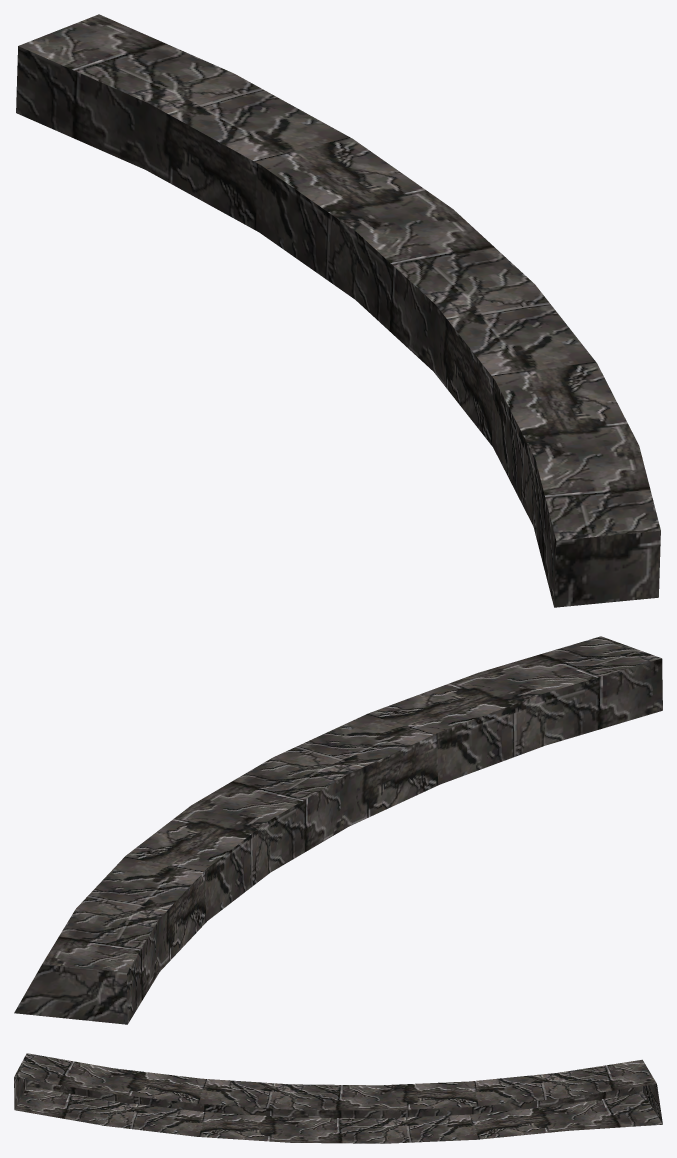
File: CH09_SMAUG_PLAYSURFACE_LAIR73.fbx
3 views of the same model, one above another, from view 1: azimuth 30°, elevation 25°; view 2: azimuth 150°, elevation 25°; view 3: azimuth 270°, elevation 25° (orthographic). The views are drawn at different scales.
Visible parts, largest first — view 1: CH09_SMAUG_PLAYSURFACE_LAIR73; view 2: CH09_SMAUG_PLAYSURFACE_LAIR73; view 3: CH09_SMAUG_PLAYSURFACE_LAIR73.
Boxes of the visible parts, bbox=[...] form: CH09_SMAUG_PLAYSURFACE_LAIR73: bbox=[16, 14, 660, 607]; CH09_SMAUG_PLAYSURFACE_LAIR73: bbox=[14, 636, 662, 1024]; CH09_SMAUG_PLAYSURFACE_LAIR73: bbox=[14, 1053, 662, 1143].
Bounding box in the file's own units: 30666 × 10909 × 135099.
Materials: 1 (1 with a texture image).
